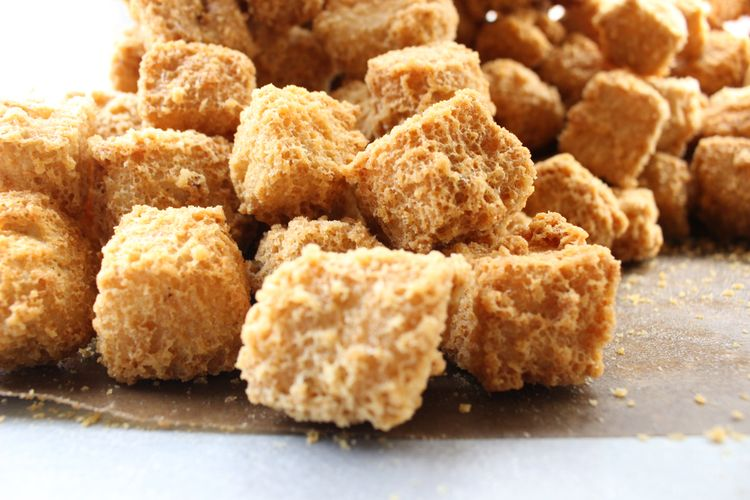Tahu: (221, 246, 445, 424), (69, 209, 250, 378), (417, 230, 595, 397), (190, 80, 337, 240), (120, 104, 257, 212), (1, 187, 122, 304), (389, 111, 515, 220), (1, 87, 94, 181), (151, 48, 262, 124), (580, 87, 671, 169)
